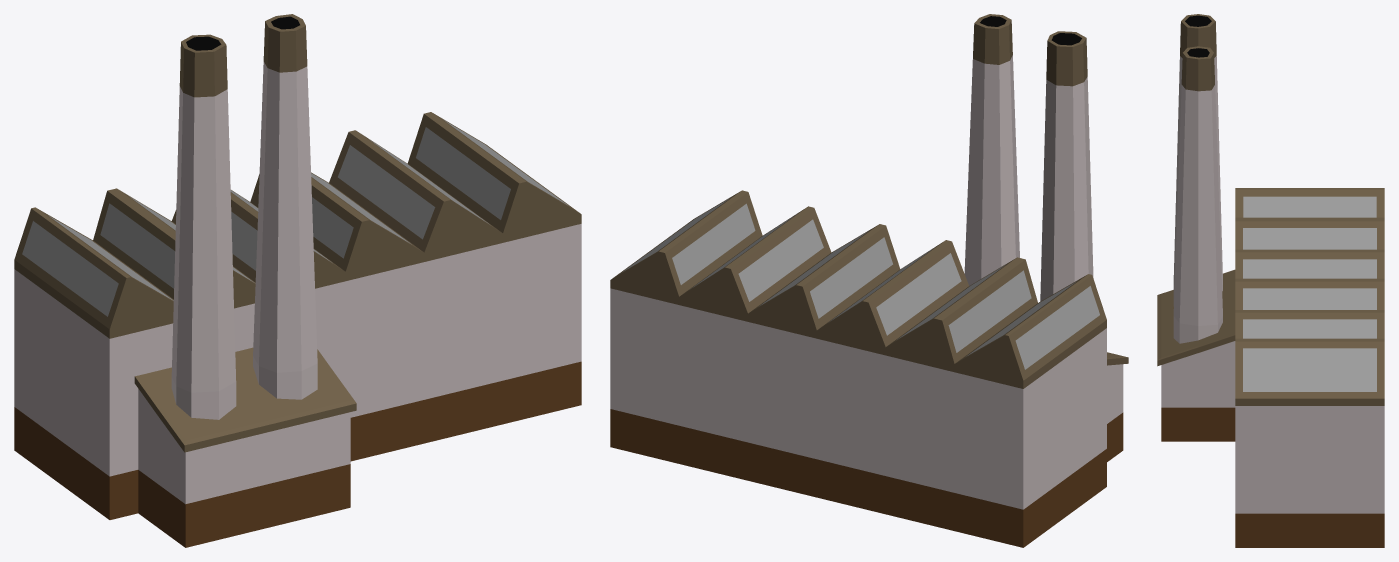
The model's file is CivilianFactory.glb.
3 renders of one model, left to right at view 1: azimuth 30°, elevation 25°; view 2: azimuth 150°, elevation 25°; view 3: azimuth 270°, elevation 25°, orthographic. The views are drawn at different scales.
Parts seen in each view (by area): view 1: CivilianFactory; view 2: CivilianFactory; view 3: CivilianFactory.
Part boxes in pixels (box(x1,y1,x2,y2)): CivilianFactory: box(14, 14, 581, 547); CivilianFactory: box(610, 14, 1128, 547); CivilianFactory: box(1157, 14, 1384, 547).
Size of the model in its own units: 2.14 by 2.07 by 1.14.
